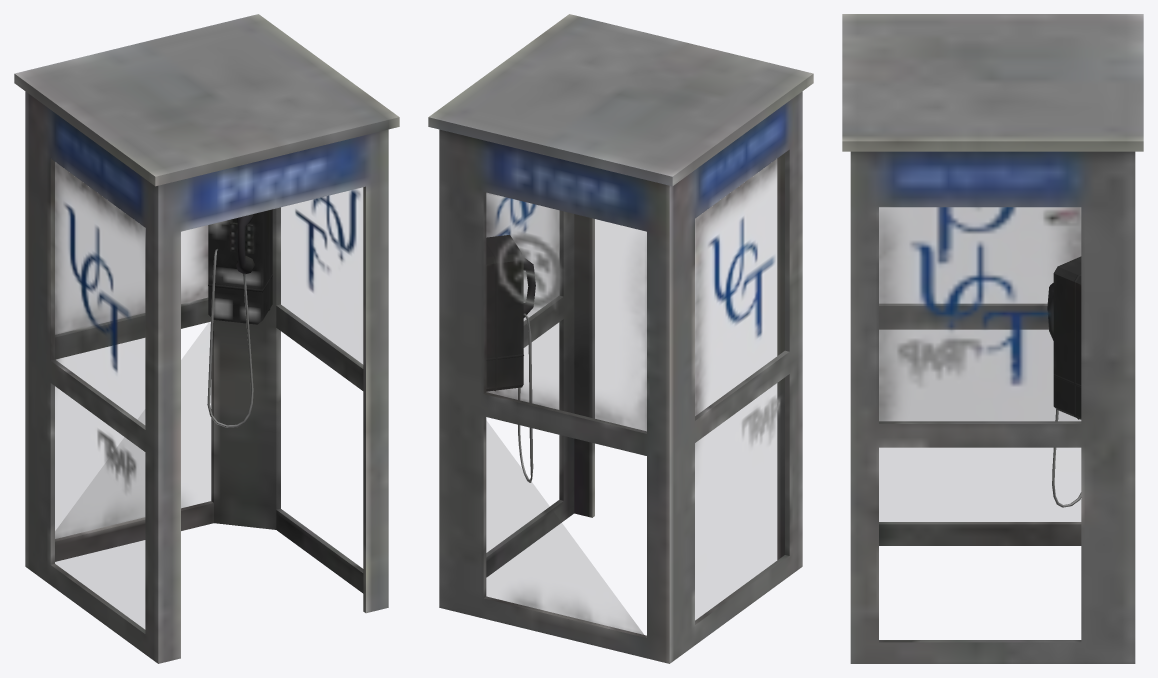
Rendered from payphone-booth.lod1.glb.
The picture shows the model from 3 angles, left to right: view 1: azimuth 30°, elevation 25°; view 2: azimuth 150°, elevation 25°; view 3: azimuth 270°, elevation 25°; orthographic projection. The views are drawn at different scales.
Parts seen in each view (by area): view 1: defaultMaterial (×2); view 2: defaultMaterial (×2); view 3: defaultMaterial (×2).
Part boxes in pixels (x1=…): defaultMaterial (×2): x1=14, y1=14, x2=399, y2=663; defaultMaterial (×2): x1=428, y1=14, x2=813, y2=663; defaultMaterial (×2): x1=842, y1=14, x2=1143, y2=663.
Size of the model in its own units: 1.2 by 2.3 by 1.2.
Materials: 2 (2 with a texture image).
